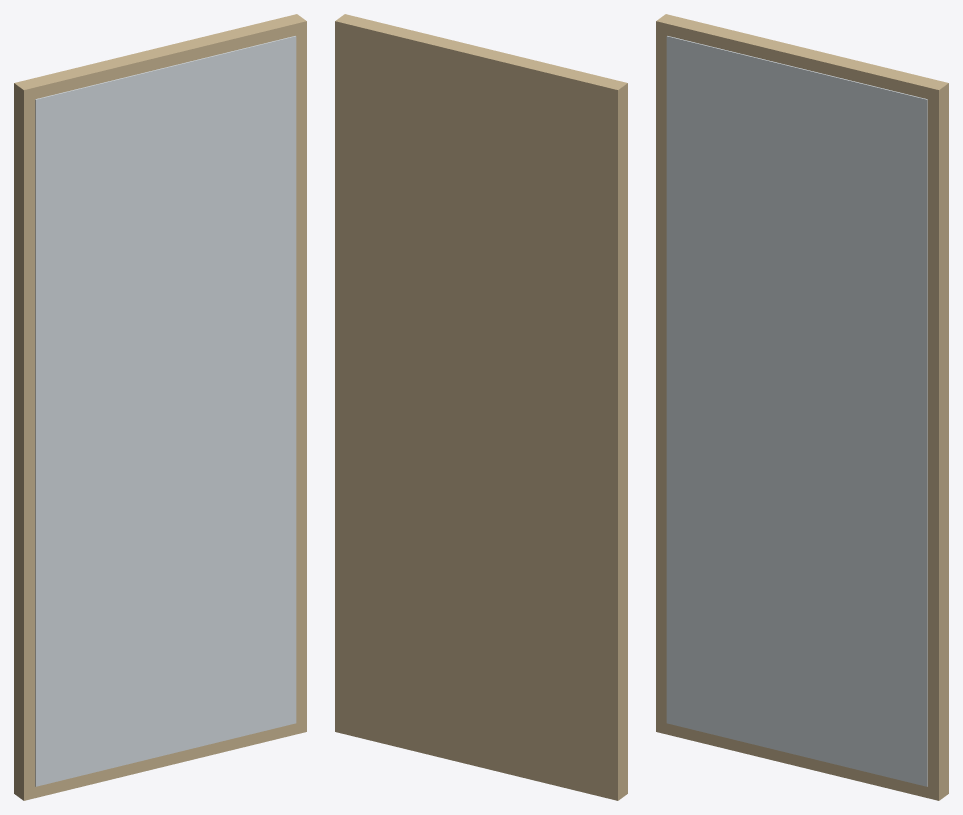
The model's file is own_mirror.glb.
3 renders of one model, left to right at view 1: azimuth 30°, elevation 25°; view 2: azimuth 150°, elevation 25°; view 3: azimuth 330°, elevation 25°, orthographic.
Parts seen in each view (by area): view 1: model; view 2: model; view 3: model.
Part boxes in pixels (x1,y1,x2,y2): model: (14, 14, 306, 800); model: (335, 14, 627, 800); model: (656, 14, 948, 800).
Bounding box in the file's own units: 0.5 × 1.2 × 0.0319.
